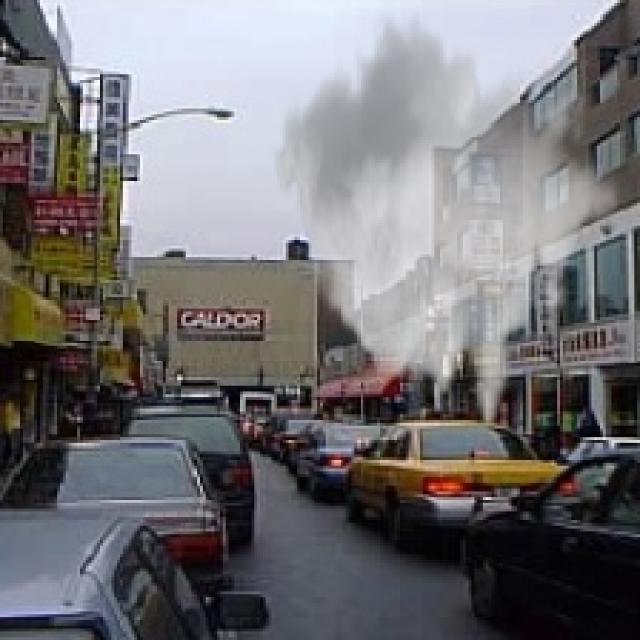Smoke: (271, 6, 620, 426)
